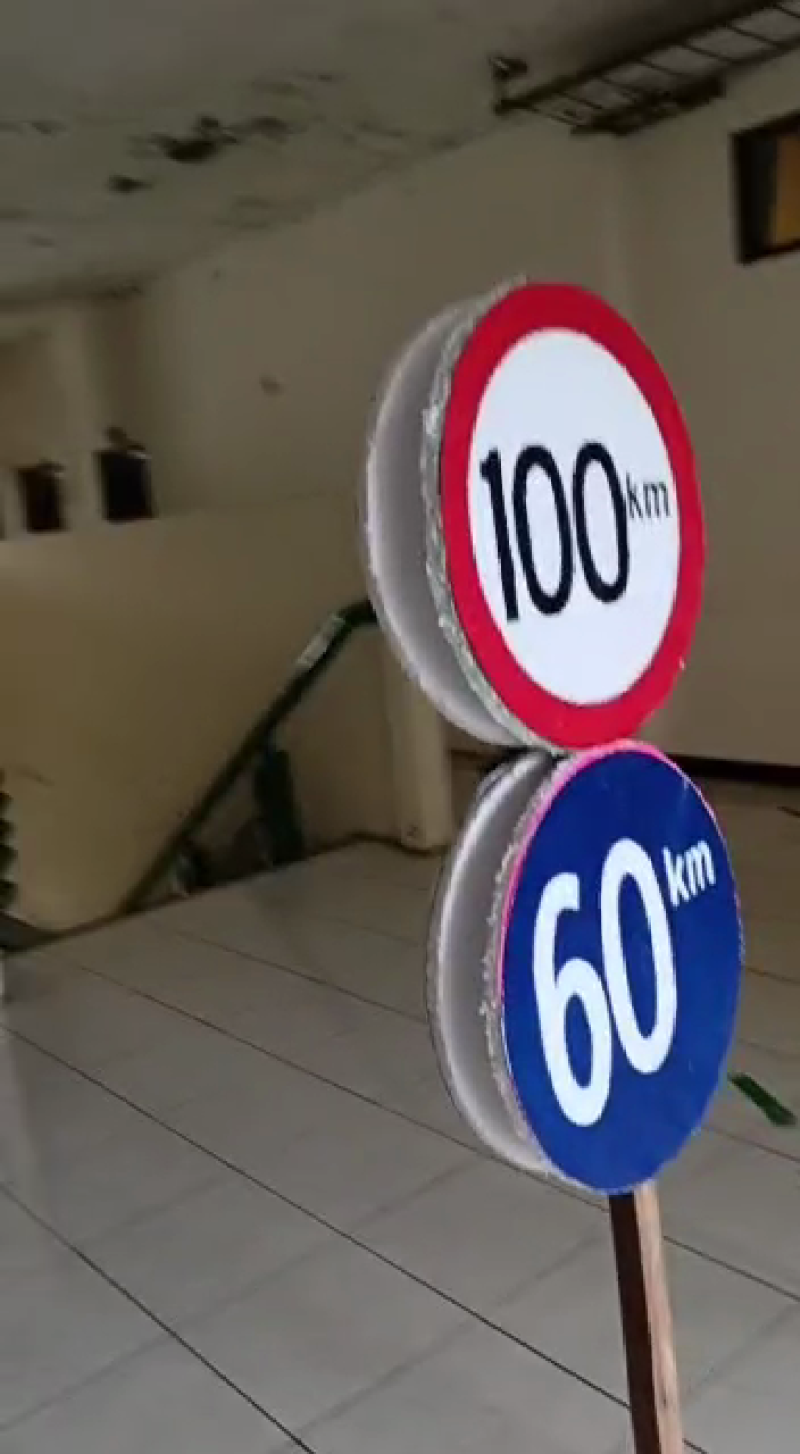batas maksimal 100kmperjam minimal 60kmperjam: (420, 254, 759, 1192)
